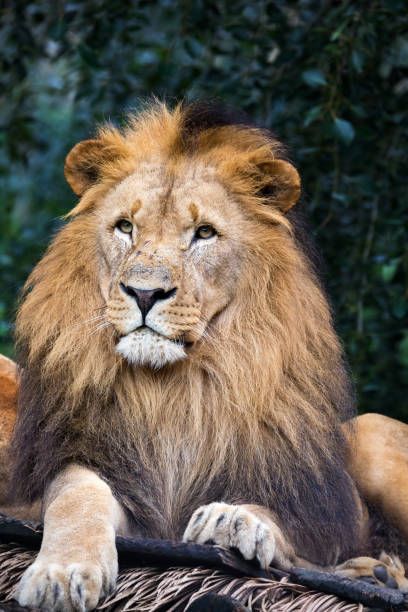lion: (11, 73, 388, 591)
